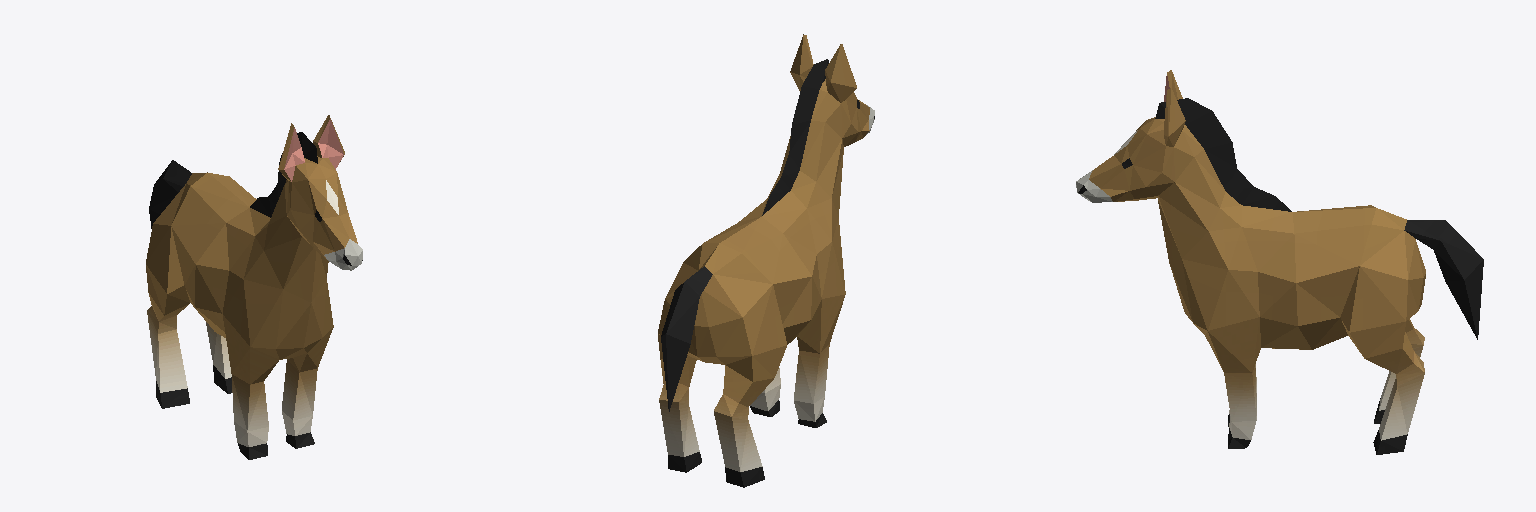
3 renders of one model, left to right at view 1: azimuth 30°, elevation 25°; view 2: azimuth 150°, elevation 25°; view 3: azimuth 270°, elevation 25°, orthographic.
Visible parts, largest first — view 1: horse_Skin_ZSphere_1_horse_pTorus1_horse_polySurface2_horse_pol; view 2: horse_Skin_ZSphere_1_horse_pTorus1_horse_polySurface2_horse_pol; view 3: horse_Skin_ZSphere_1_horse_pTorus1_horse_polySurface2_horse_pol.
Boxes of the visible parts, box(x1,y1,x2,y2) form: horse_Skin_ZSphere_1_horse_pTorus1_horse_polySurface2_horse_pol: box(146, 115, 362, 459); horse_Skin_ZSphere_1_horse_pTorus1_horse_polySurface2_horse_pol: box(658, 34, 874, 487); horse_Skin_ZSphere_1_horse_pTorus1_horse_polySurface2_horse_pol: box(1076, 70, 1483, 454).
Size of the model in its own units: 0.8026 by 2.51 by 2.62.
1 materials, 1 textured.